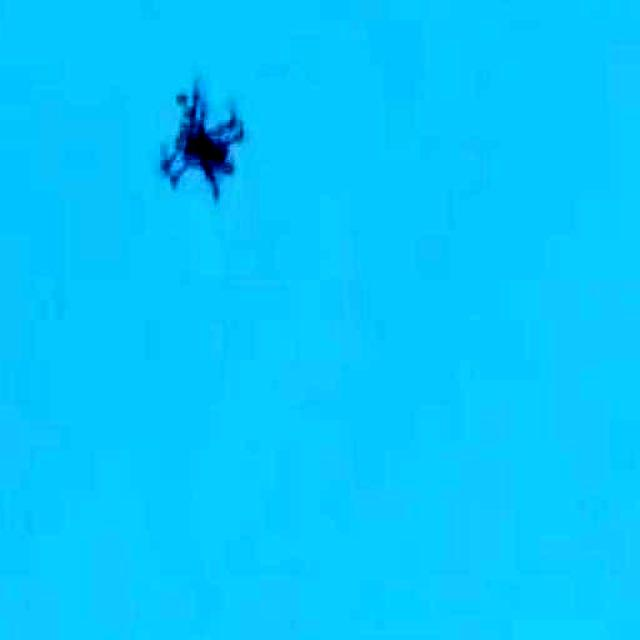bird: (151, 75, 256, 202)
